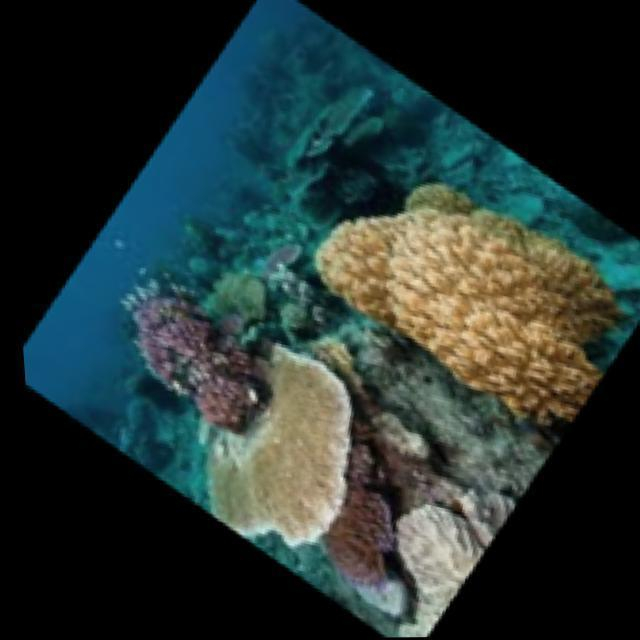Dead Coral: (243, 63, 406, 210)
